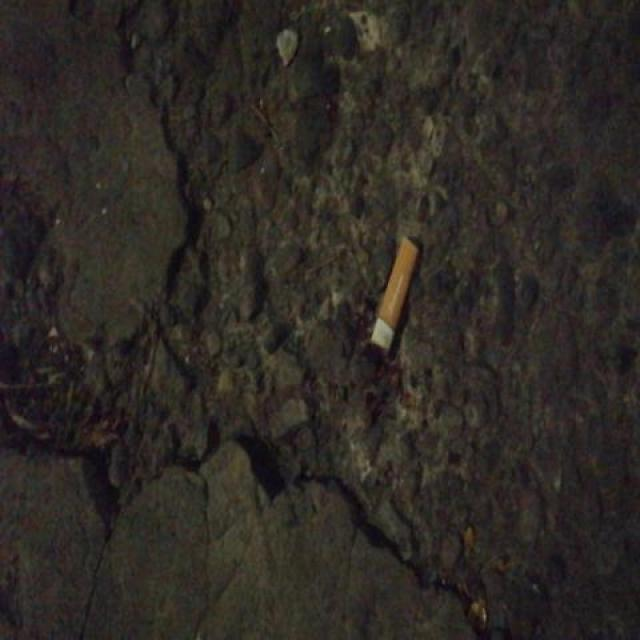non-organic waste: (366, 231, 422, 353)
